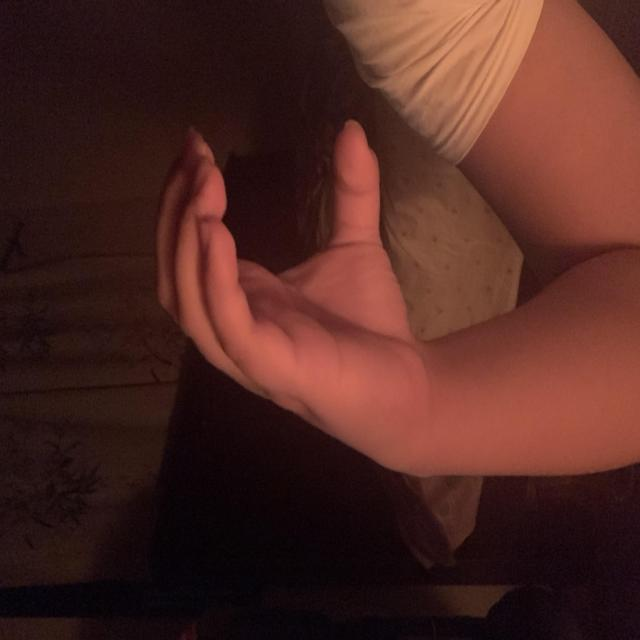C: (120, 152, 475, 431)
